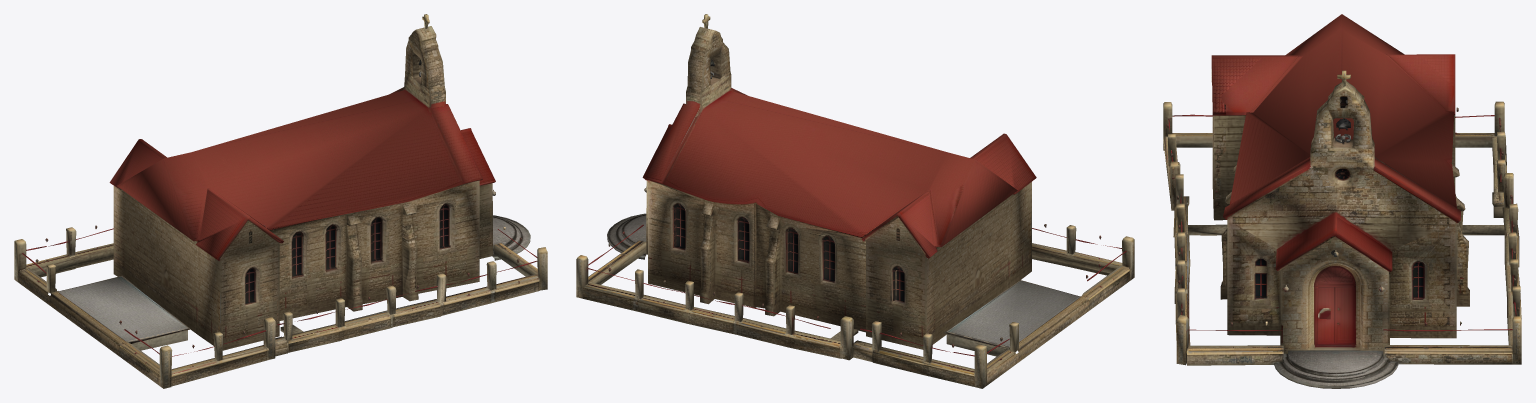
Rendered from iglesia-catavi.glb.
3 views of the same model, side by side, from view 1: azimuth 30°, elevation 25°; view 2: azimuth 150°, elevation 25°; view 3: azimuth 270°, elevation 25° (orthographic). The views are drawn at different scales.
Parts seen in each view (by area): view 1: tripo_node_596cd76d-22c1-49e3-be6c-0b97fd9f7e4a; view 2: tripo_node_596cd76d-22c1-49e3-be6c-0b97fd9f7e4a; view 3: tripo_node_596cd76d-22c1-49e3-be6c-0b97fd9f7e4a.
Boxes of the visible parts, bbox=[...] form: tripo_node_596cd76d-22c1-49e3-be6c-0b97fd9f7e4a: bbox=[14, 14, 547, 388]; tripo_node_596cd76d-22c1-49e3-be6c-0b97fd9f7e4a: bbox=[576, 14, 1134, 388]; tripo_node_596cd76d-22c1-49e3-be6c-0b97fd9f7e4a: bbox=[1163, 14, 1521, 388].
Bounding box in the file's own units: 0.998 × 0.5098 × 0.623.
1 material, 1 textured.
